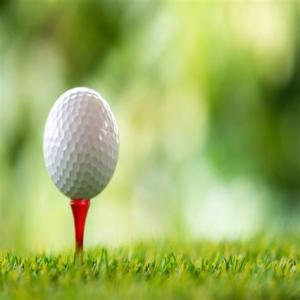Golf: (44, 84, 120, 198)
